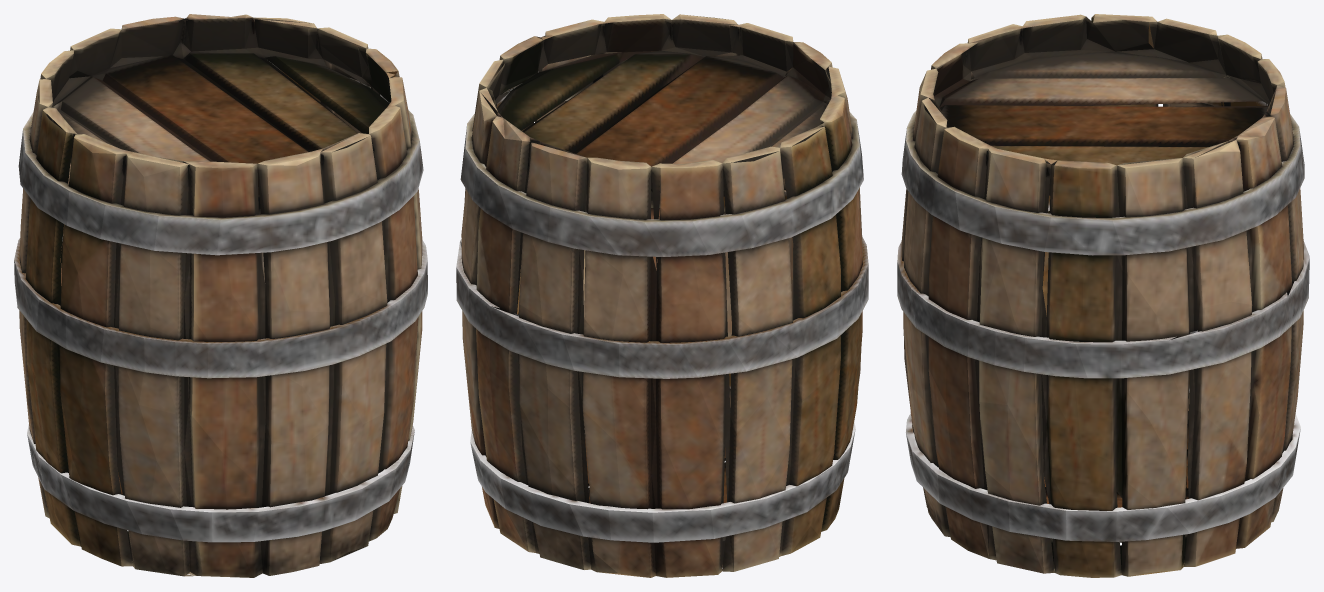
Rendered from fayre_barrel.glb.
3 views of the same model, side by side, from view 1: azimuth 30°, elevation 25°; view 2: azimuth 150°, elevation 25°; view 3: azimuth 270°, elevation 25° (orthographic).
Visible parts, largest first — view 1: defaultMaterial.002; view 2: defaultMaterial.002; view 3: defaultMaterial.002.
Boxes of the visible parts, left/top/right/bottom form: defaultMaterial.002: left=14, top=14, right=427, bottom=577; defaultMaterial.002: left=456, top=14, right=868, bottom=577; defaultMaterial.002: left=897, top=14, right=1309, bottom=577.
Size of the model in its own units: 0.3025 by 0.3347 by 0.3025.
Materials: 1 (1 with a texture image).
